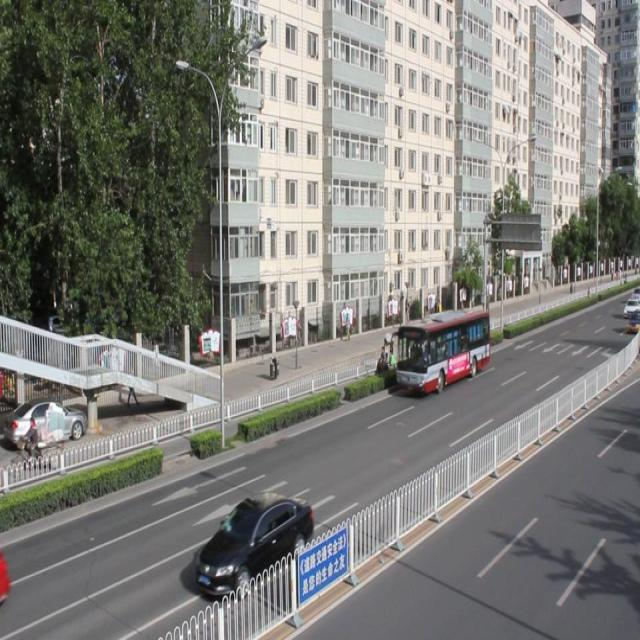car: (195, 492, 311, 596)
van: (396, 306, 488, 396)
